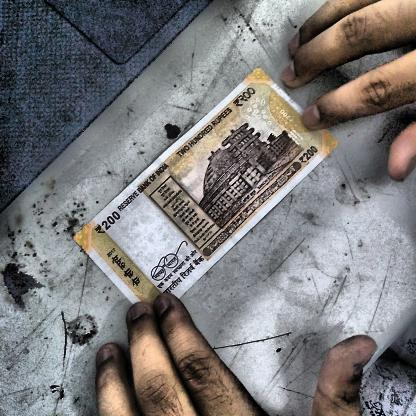Rs200: (91, 207, 126, 240), (293, 141, 325, 168)
